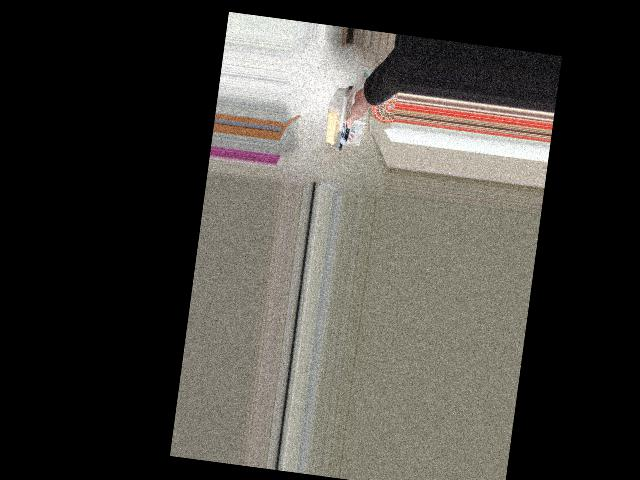cheese: (318, 79, 392, 155)
